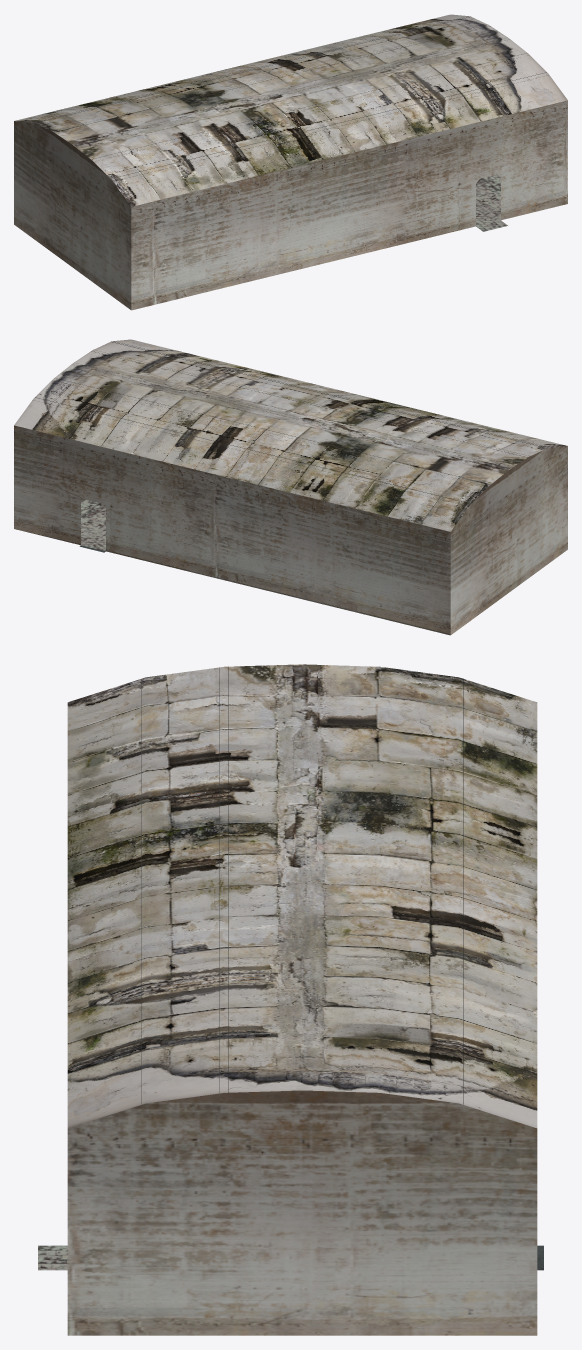
File: BunkerArea.FBX
The picture shows the model from 3 angles, top to bottom: view 1: azimuth 30°, elevation 25°; view 2: azimuth 150°, elevation 25°; view 3: azimuth 270°, elevation 25°; orthographic projection. The views are drawn at different scales.
Parts seen in each view (by area): view 1: BunkerArea; view 2: BunkerArea; view 3: BunkerArea.
Part boxes in pixels (x1,y1,x2,y2): BunkerArea: [14, 14, 567, 310]; BunkerArea: [14, 339, 567, 635]; BunkerArea: [38, 664, 543, 1335].
Bounding box in the file's own units: 2175 × 584 × 1092.
Materials: 1 (1 with a texture image).
